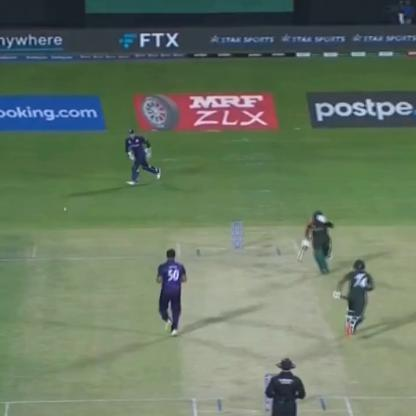ball: (61, 204, 68, 214)
bat: (292, 233, 314, 266)
pitch: (161, 233, 362, 412)
